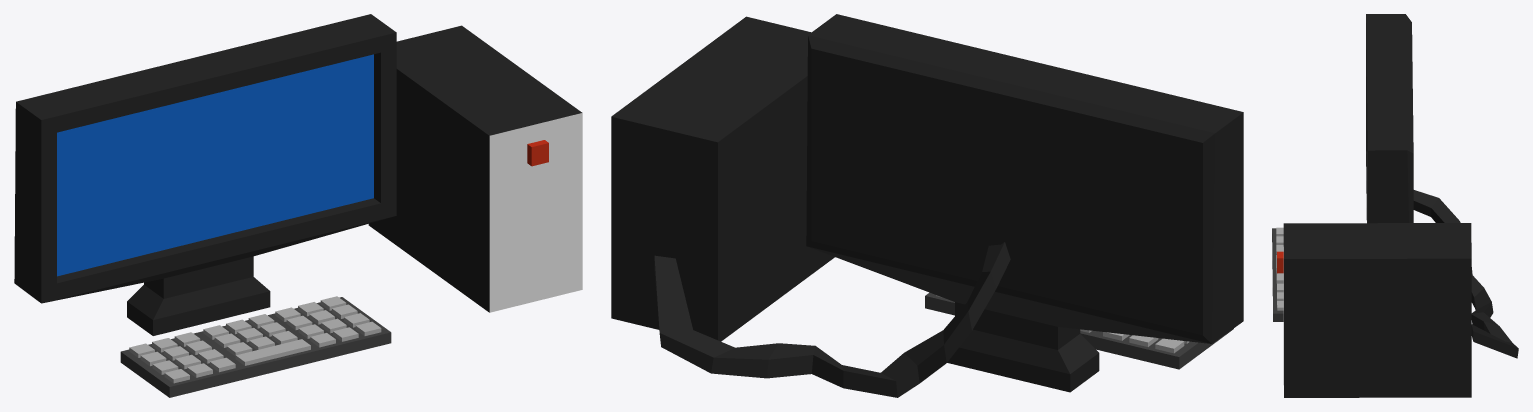
Rendered from Computer (3).fbx.
3 views of the same model, side by side, from view 1: azimuth 30°, elevation 25°; view 2: azimuth 150°, elevation 25°; view 3: azimuth 270°, elevation 25° (orthographic). The views are drawn at different scales.
Visible parts, largest first — view 1: Computer; view 2: Computer; view 3: Computer.
Boxes of the visible parts, bbox=[...] form: Computer: bbox=[14, 14, 582, 397]; Computer: bbox=[611, 14, 1243, 397]; Computer: bbox=[1272, 14, 1518, 397].
Size of the model in its own units: 324 by 161 by 180.
